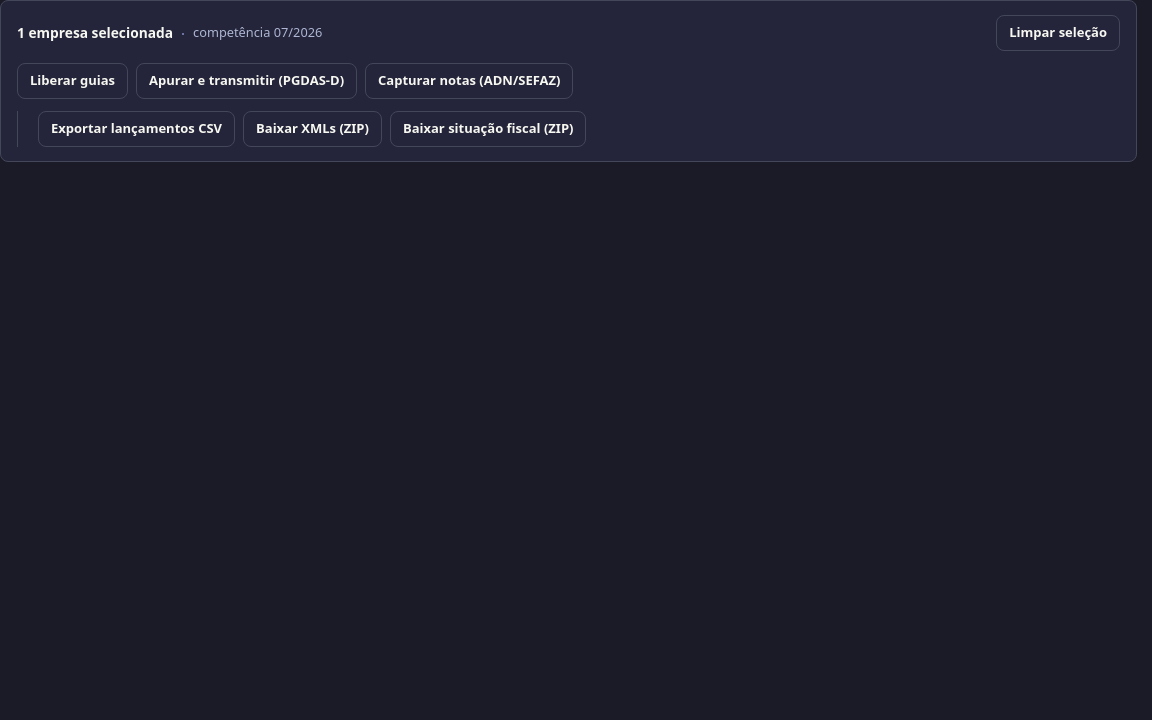
Test: ⚠ PRÉVIA ANTES, CONFIRMAÇÃO DEPOIS — nada sai no clique do botão › ⚠ prévia que NÃO carrega BLOQUEIA o envio — e não inventa um número no lugar dela
Click the button "Liberar guias" at (72, 81), box [17, 63, 128, 99]
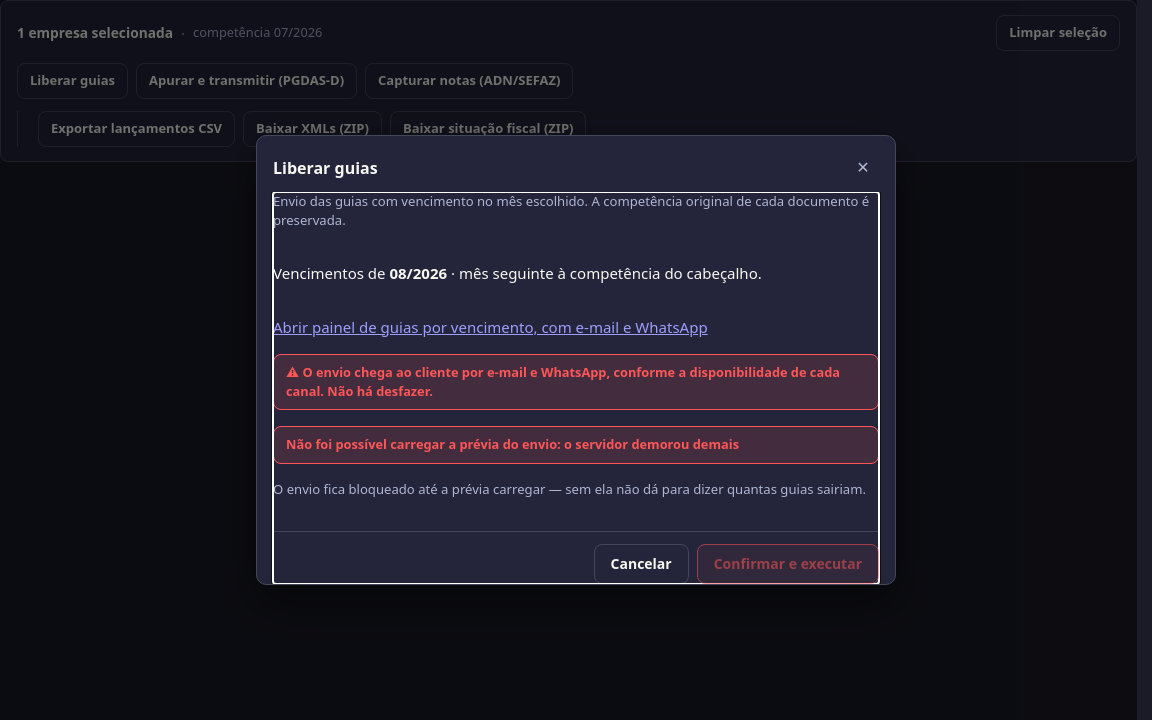
Check: the text "Não foi possível carregar a prévia" is shown, box [286, 435, 564, 453]
Check: the button "Confirmar e executar" is disabled, box [697, 544, 879, 584]
